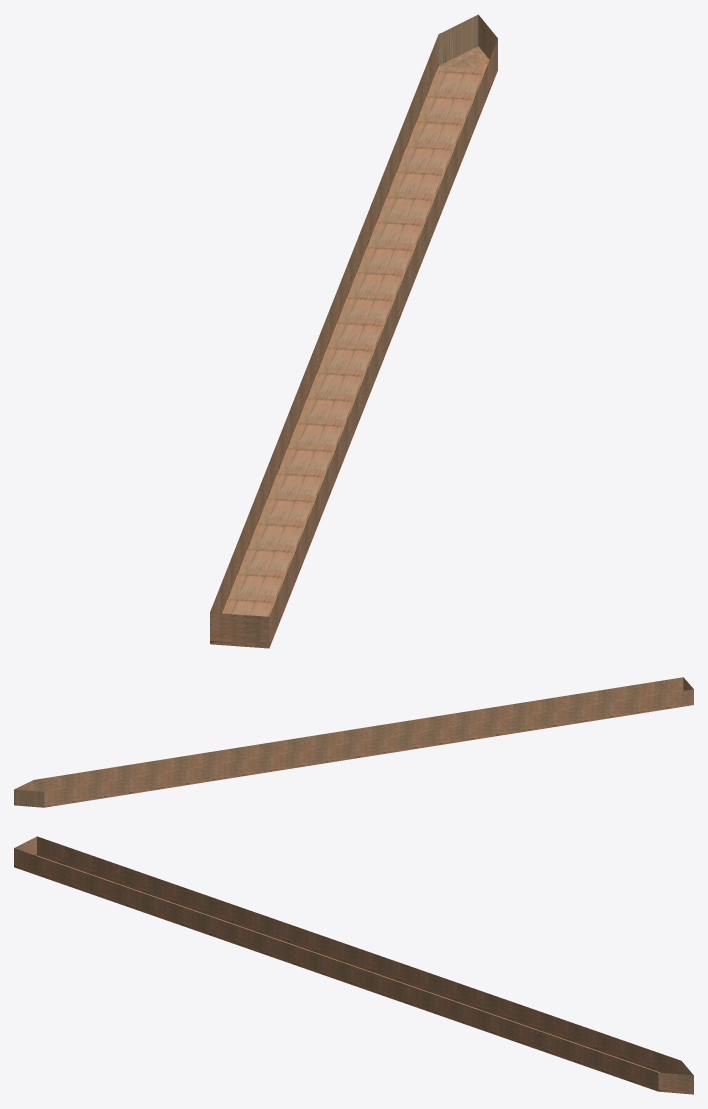
Rendered from Center Island.fbx.
3 views of the same model, one above another, from view 1: azimuth 30°, elevation 25°; view 2: azimuth 150°, elevation 25°; view 3: azimuth 270°, elevation 25° (orthographic). The views are drawn at different scales.
Visible parts, largest first — view 1: Cube; view 2: Cube; view 3: Cube.
Part boxes in pixels (box(x1,y1,x2,y2)): Cube: box(210, 14, 497, 648); Cube: box(14, 677, 693, 807); Cube: box(14, 836, 693, 1094).
Size of the model in its own units: 3117 by 116 by 3746.
